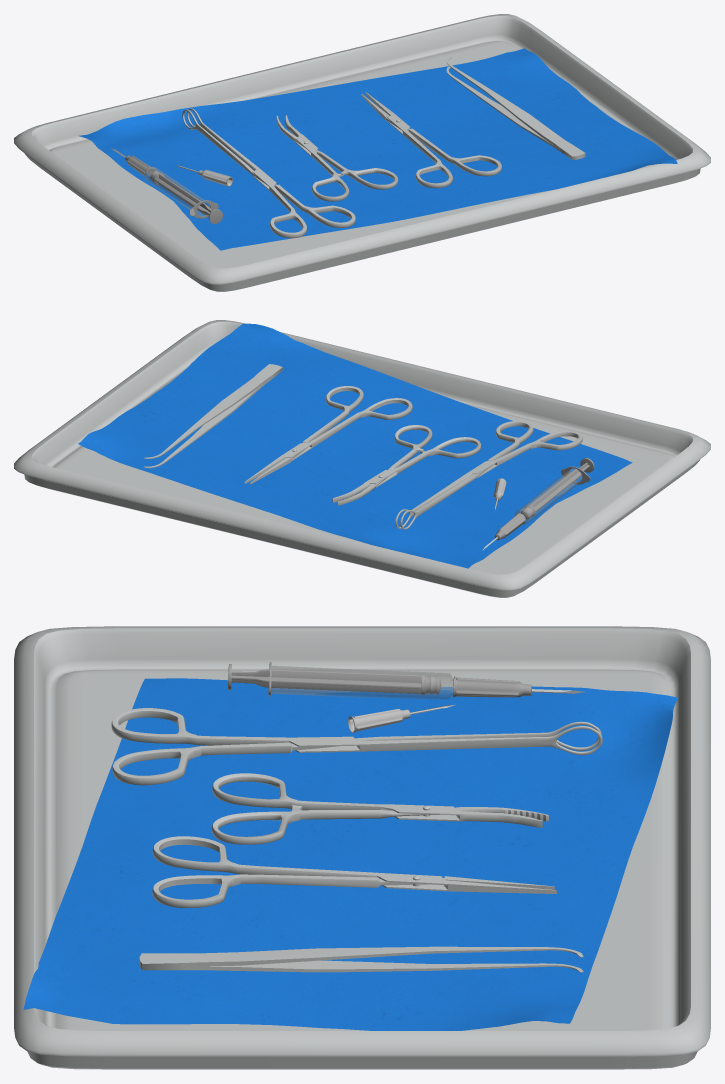
The model's file is vr_surgical_tool_set.glb.
The picture shows the model from 3 angles, top to bottom: view 1: azimuth 30°, elevation 25°; view 2: azimuth 150°, elevation 25°; view 3: azimuth 270°, elevation 25°; orthographic projection. The views are drawn at different scales.
Visible parts, largest first — view 1: Towel, Tray, Scissors_T1_Material #104_0, Scissors_T3_Material #104_0, w, Scissors_T2_Material #104_0, Syringe_Material #69_0, Syringe_Material #70_0; view 2: Towel, Tray, Scissors_T1_Material #104_0, Scissors_T3_Material #104_0, Scissors_T2_Material #104_0, w, Syringe_Material #69_0, Syringe_Material #70_0; view 3: Towel, Tray, Scissors_T1_Material #104_0, Scissors_T3_Material #104_0, w, Scissors_T2_Material #104_0, Syringe_Material #69_0, Syringe_Material #70_0, Syringe_cap.
Boxes of the visible parts, bbox=[...] form: Towel: bbox=[79, 48, 677, 250]; Tray: bbox=[14, 14, 710, 291]; Scissors_T1_Material #104_0: bbox=[182, 108, 355, 238]; Scissors_T3_Material #104_0: bbox=[361, 92, 501, 188]; w: bbox=[446, 57, 585, 159]; Scissors_T2_Material #104_0: bbox=[276, 115, 398, 201]; Syringe_Material #69_0: bbox=[111, 148, 222, 223]; Syringe_Material #70_0: bbox=[144, 167, 209, 215]; Towel: bbox=[78, 323, 632, 568]; Tray: bbox=[14, 320, 710, 597]; Scissors_T1_Material #104_0: bbox=[395, 421, 582, 529]; Scissors_T3_Material #104_0: bbox=[244, 386, 412, 484]; Scissors_T2_Material #104_0: bbox=[332, 425, 481, 505]; w: bbox=[143, 364, 282, 468]; Syringe_Material #69_0: bbox=[482, 458, 594, 550]; Syringe_Material #70_0: bbox=[515, 468, 582, 523]; Towel: bbox=[23, 678, 678, 1030]; Tray: bbox=[14, 626, 710, 1069]; Scissors_T1_Material #104_0: bbox=[111, 708, 602, 785]; Scissors_T3_Material #104_0: bbox=[152, 836, 556, 907]; w: bbox=[139, 946, 583, 972]; Scissors_T2_Material #104_0: bbox=[212, 773, 548, 844]; Syringe_Material #69_0: bbox=[228, 662, 585, 697]; Syringe_Material #70_0: bbox=[271, 666, 453, 698]; Syringe_cap: bbox=[348, 704, 455, 733].
Bounding box in the file's own units: 0.5506 × 0.0338 × 0.3834.
Materials: 5 (5 with a texture image).
